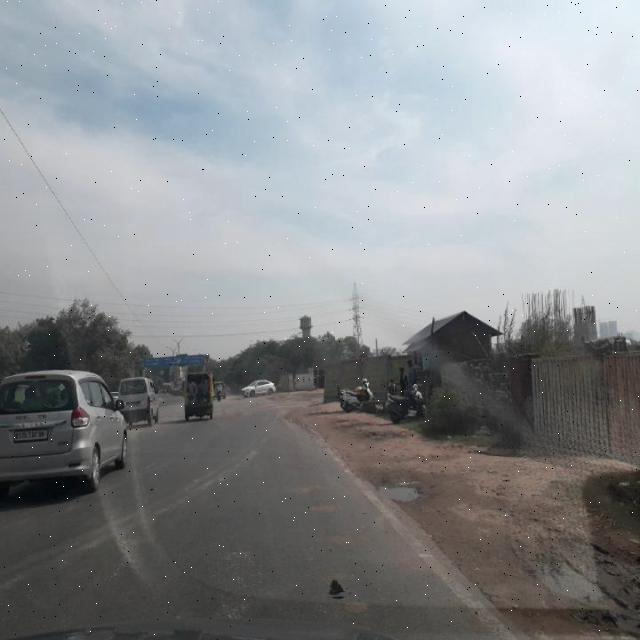D40: (370, 468, 444, 527)
D44: (410, 540, 502, 636)
